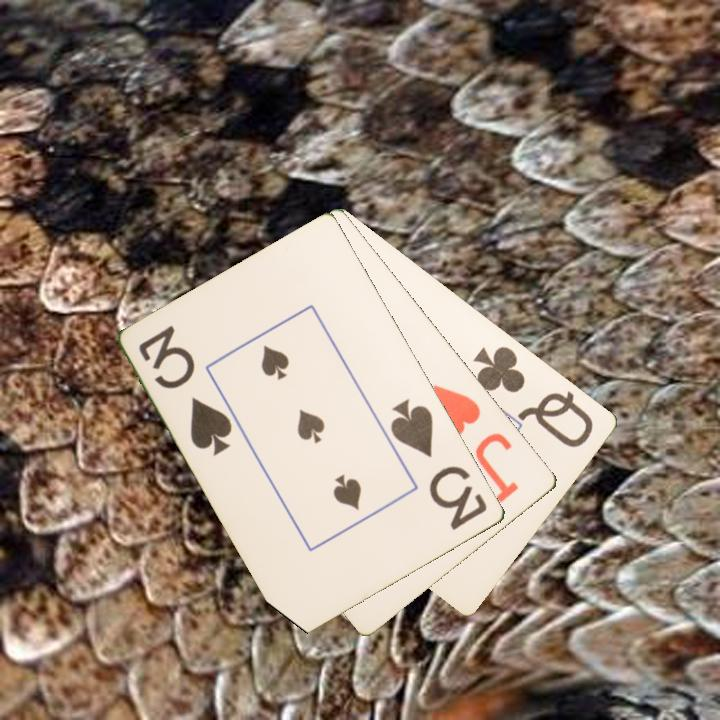3s: (387, 395, 491, 533), (135, 322, 236, 459)
Jh: (429, 380, 523, 506)
Qc: (470, 342, 597, 451)
